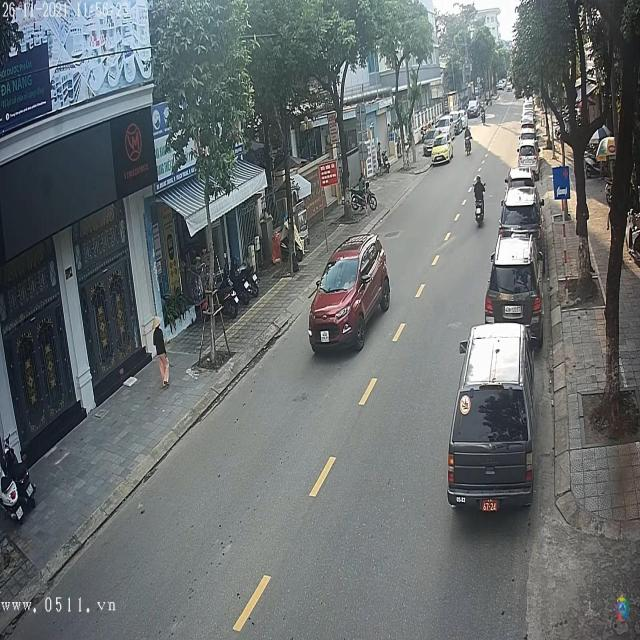bus: (487, 237, 542, 332)
car: (448, 325, 534, 512), (307, 232, 393, 355), (499, 191, 543, 239), (433, 133, 454, 165)
motorcycle: (476, 198, 486, 226)
